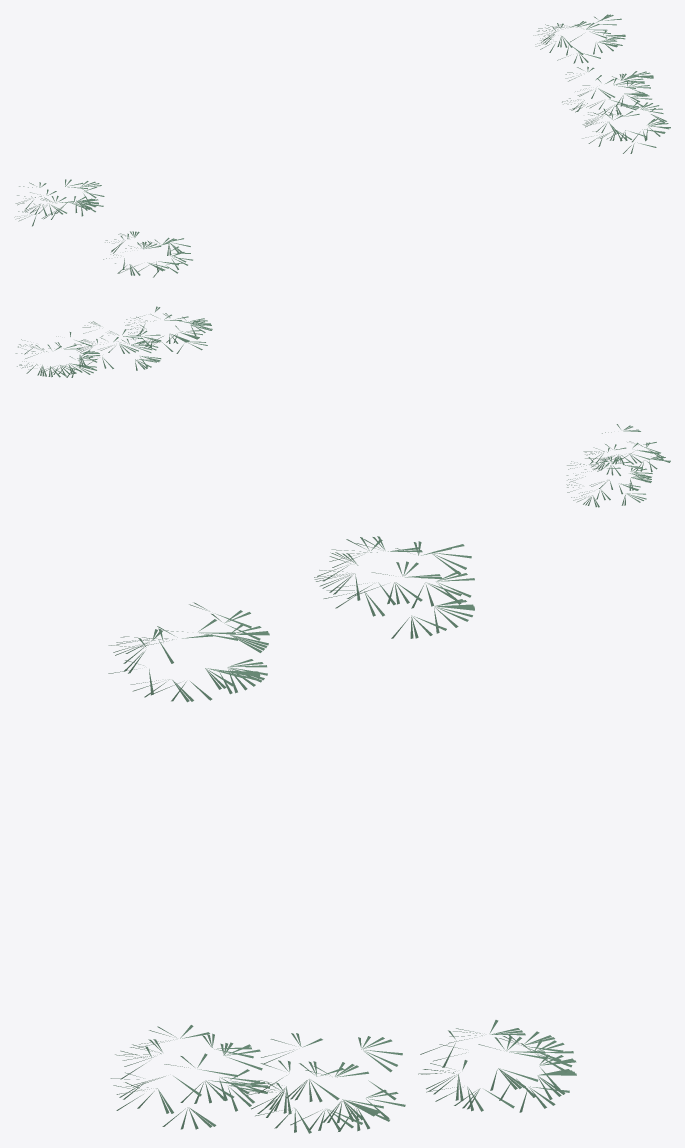
File: teaching3-vegetation-15-near.glb
3 views of the same model, one above another, from view 1: azimuth 30°, elevation 25°; view 2: azimuth 150°, elevation 25°; view 3: azimuth 270°, elevation 25° (orthographic). The views are drawn at different scales.
Parts seen in each view (by area): view 1: vegetation palm fan.002; view 2: vegetation palm fan.002; view 3: vegetation palm fan.002.
Boxes of the visible parts, x1,y1,x2,y2 form: vegetation palm fan.002: (14, 14, 670, 277); vegetation palm fan.002: (15, 306, 670, 507); vegetation palm fan.002: (108, 536, 576, 1133).
Size of the model in its own units: 40.44 by 3.44 by 13.64.
